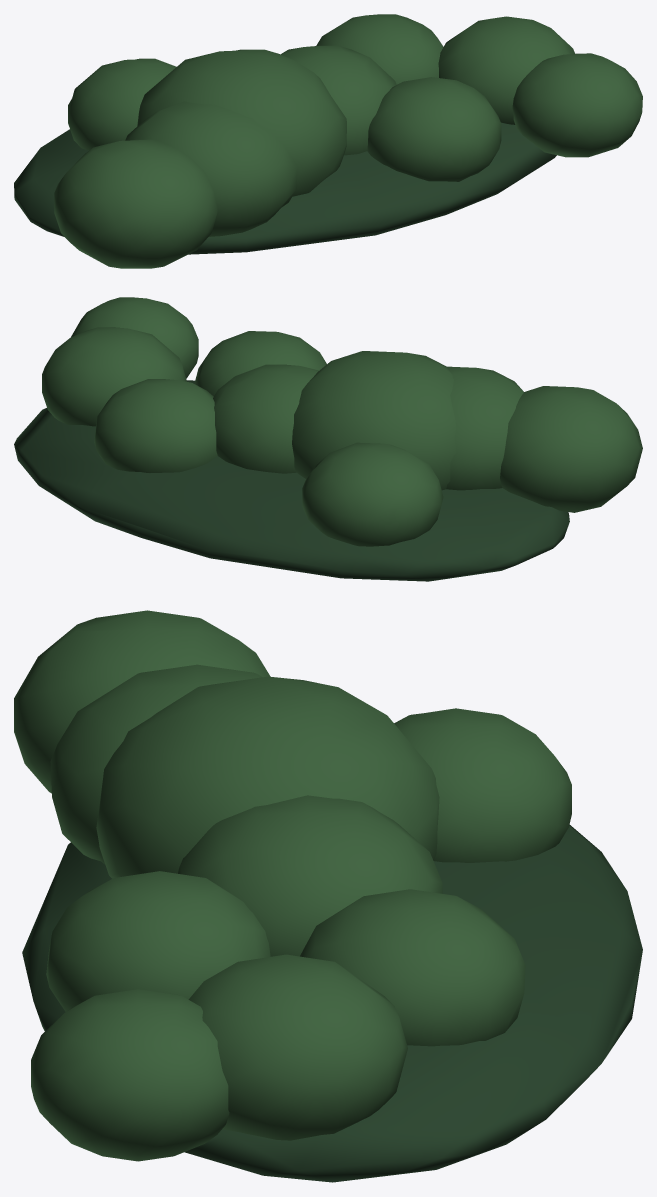
Rendered from f11-hillside-wooded.lod1.glb.
3 views of the same model, one above another, from view 1: azimuth 30°, elevation 25°; view 2: azimuth 150°, elevation 25°; view 3: azimuth 270°, elevation 25° (orthographic). The views are drawn at different scales.
Parts seen in each view (by area): view 1: part9, part0, part7, part8, part1, part5, part6, part2, part4, part3; view 2: part9, part7, part0, part2, part3, part6, part4, part8, part1, part5; view 3: part9, part7, part6, part5, part4, part3, part1, part2, part0, part8.
Part boxes in pixels (<box>): part9: <box>14,122,556,254</box>; part0: <box>54,139,217,268</box>; part7: <box>137,49,346,196</box>; part8: <box>125,101,297,236</box>; part1: <box>367,77,501,181</box>; part5: <box>512,53,642,157</box>; part6: <box>438,16,575,124</box>; part2: <box>68,58,176,150</box>; part4: <box>281,45,396,155</box>; part3: <box>316,14,443,84</box>; part9: <box>14,380,569,581</box>; part7: <box>292,351,456,490</box>; part0: <box>500,386,642,512</box>; part2: <box>302,442,443,546</box>; part3: <box>94,379,217,472</box>; part6: <box>42,327,186,426</box>; part4: <box>213,364,318,473</box>; part8: <box>446,366,523,490</box>; part1: <box>194,331,326,396</box>; part5: <box>71,297,198,378</box>; part9: <box>22,824,642,1182</box>; part7: <box>96,676,439,878</box>; part6: <box>188,954,407,1140</box>; part5: <box>31,989,229,1161</box>; part4: <box>177,795,442,956</box>; part3: <box>300,889,525,1046</box>; part1: <box>46,871,270,1011</box>; part2: <box>394,708,571,862</box>; part0: <box>14,610,270,793</box>; part8: <box>50,664,262,864</box>.
Size of the model in its own units: 89357 by 24350 by 52618.
